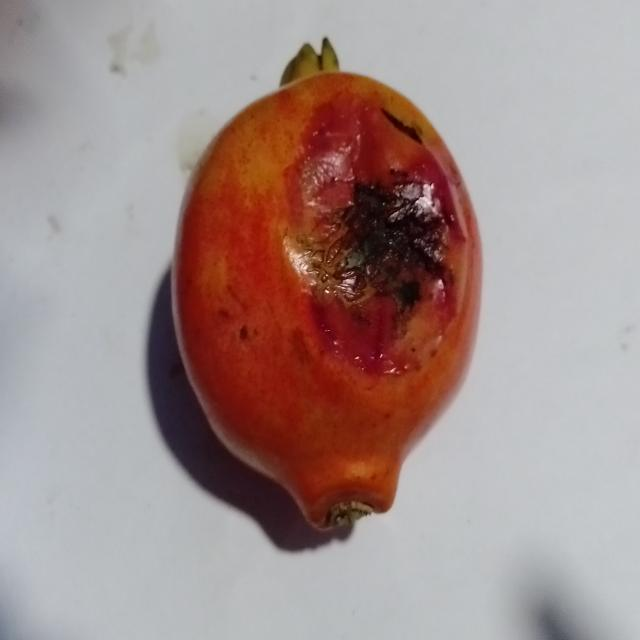Rotten: (171, 37, 489, 546)
